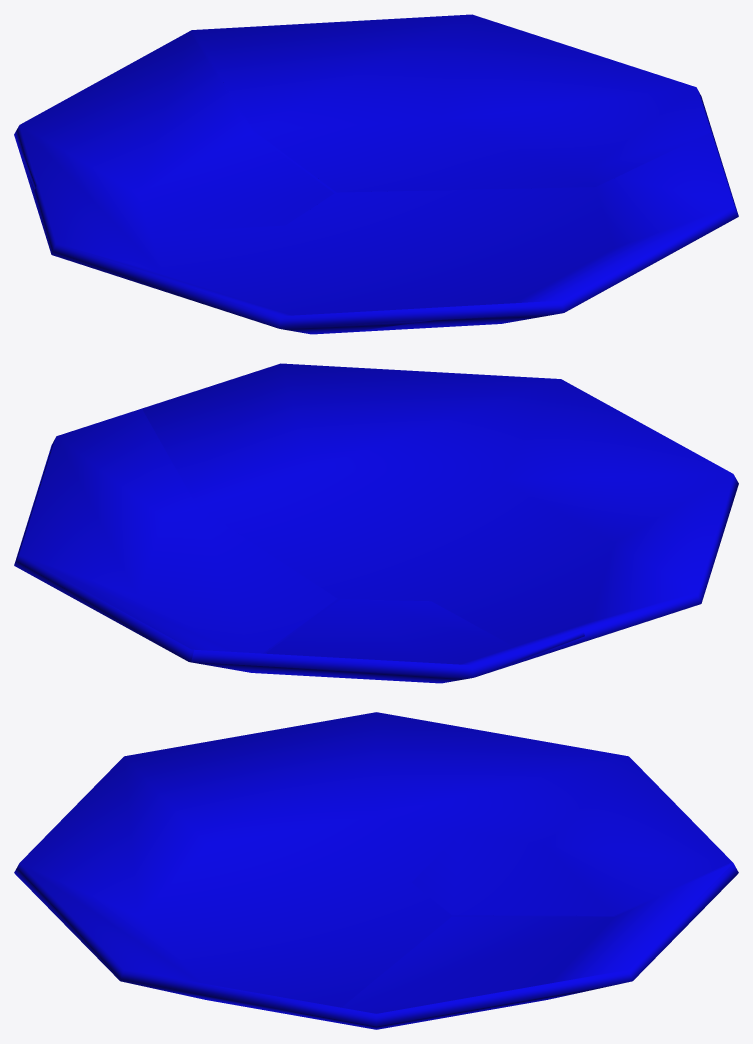
3 renders of one model, top to bottom at view 1: azimuth 30°, elevation 25°; view 2: azimuth 150°, elevation 25°; view 3: azimuth 270°, elevation 25°, orthographic. The views are drawn at different scales.
Visible parts, largest first — view 1: Plane.753, Plane.753_cell.004, Plane.753_cell.003, Plane.753_cell.001, Plane.753_cell; view 2: Plane.753, Plane.753_cell.004, Plane.753_cell.003; view 3: Plane.753, Plane.753_cell.003, Plane.753_cell.004, Plane.753_cell.001.
Part boxes in pixels (<box>): Plane.753: <box>15,19,738,332</box>; Plane.753_cell.004: <box>192,14,715,192</box>; Plane.753_cell.003: <box>14,31,334,232</box>; Plane.753_cell.001: <box>351,312,562,332</box>; Plane.753_cell: <box>280,320,431,334</box>; Plane.753: <box>14,363,738,683</box>; Plane.753_cell.004: <box>14,408,337,653</box>; Plane.753_cell.003: <box>191,599,584,677</box>; Plane.753: <box>14,712,738,1029</box>; Plane.753_cell.003: <box>412,756,731,915</box>; Plane.753_cell.004: <box>279,863,737,1025</box>; Plane.753_cell.001: <box>124,982,331,1021</box>.
Bounding box in the file's own units: 0.6 × 0.0591 × 0.6.
